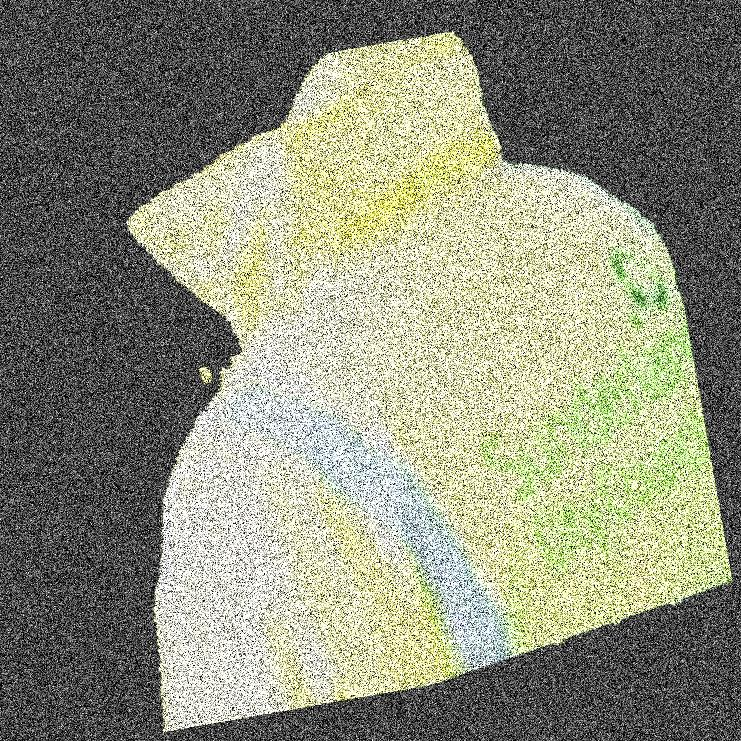Colete: (181, 0, 740, 740)
